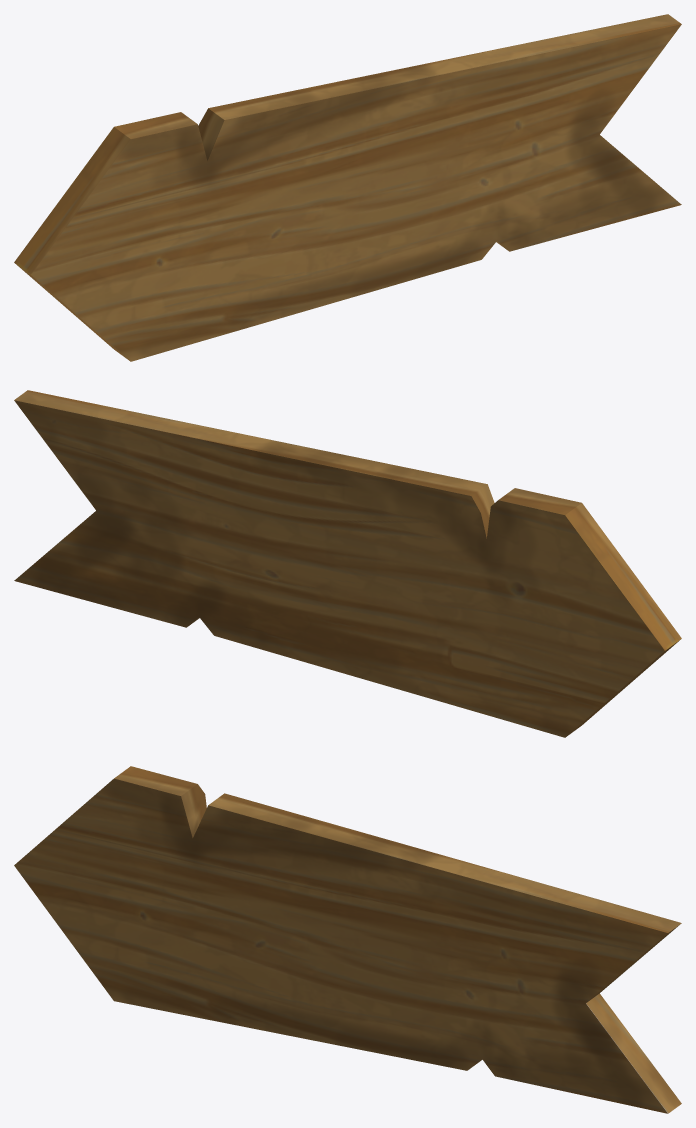
Rendered from CartelFlecha_MapSelector.fbx.
3 views of the same model, one above another, from view 1: azimuth 30°, elevation 25°; view 2: azimuth 150°, elevation 25°; view 3: azimuth 330°, elevation 25° (orthographic).
Parts seen in each view (by area): view 1: Cylinder.004; view 2: Cylinder.004; view 3: Cylinder.004.
Part boxes in pixels (x1,y1,x2,y2): Cylinder.004: [14, 14, 681, 361]; Cylinder.004: [14, 390, 681, 737]; Cylinder.004: [14, 766, 681, 1113].
Bounding box in the file's own units: 16.38 × 5.34 × 0.7608.
